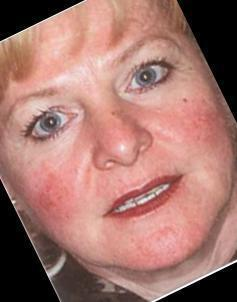Drunk: (6, 35, 215, 267)
